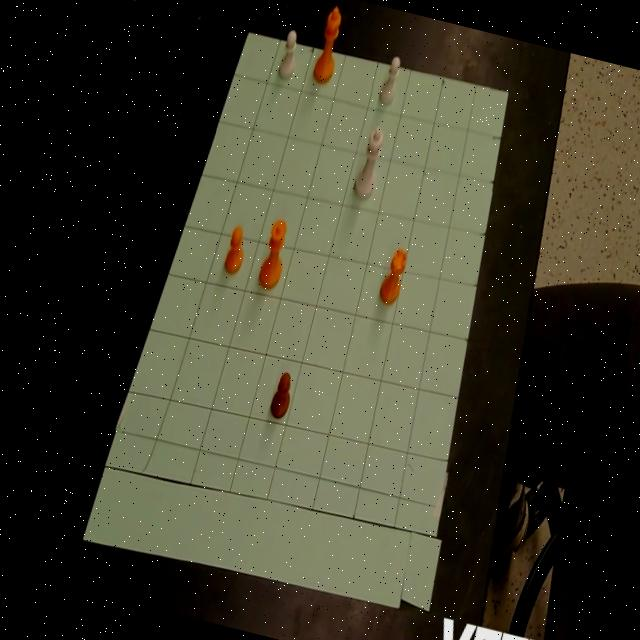orange_king: (310, 3, 348, 84)
orange_pawn: (222, 222, 251, 274), (268, 368, 296, 420)
orange_queen: (256, 216, 294, 290)
orange_rook: (376, 243, 409, 306)
white_king: (352, 120, 389, 199)
white_pawn: (276, 28, 304, 80), (377, 53, 404, 106)
